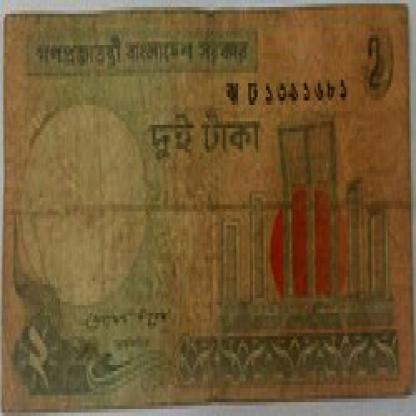two taka: (22, 322, 68, 409), (362, 31, 392, 118)
